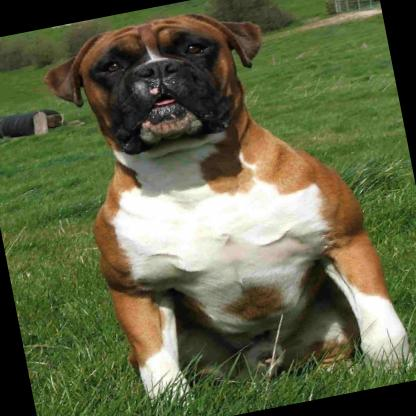boxer: (31, 0, 416, 416)
